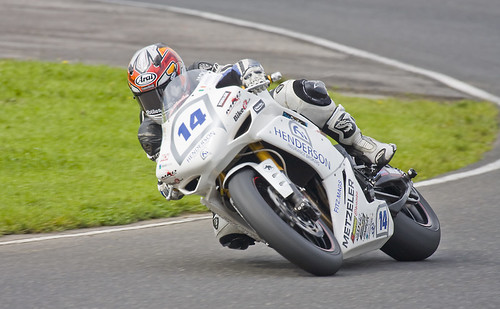helmet: (117, 37, 164, 117)
